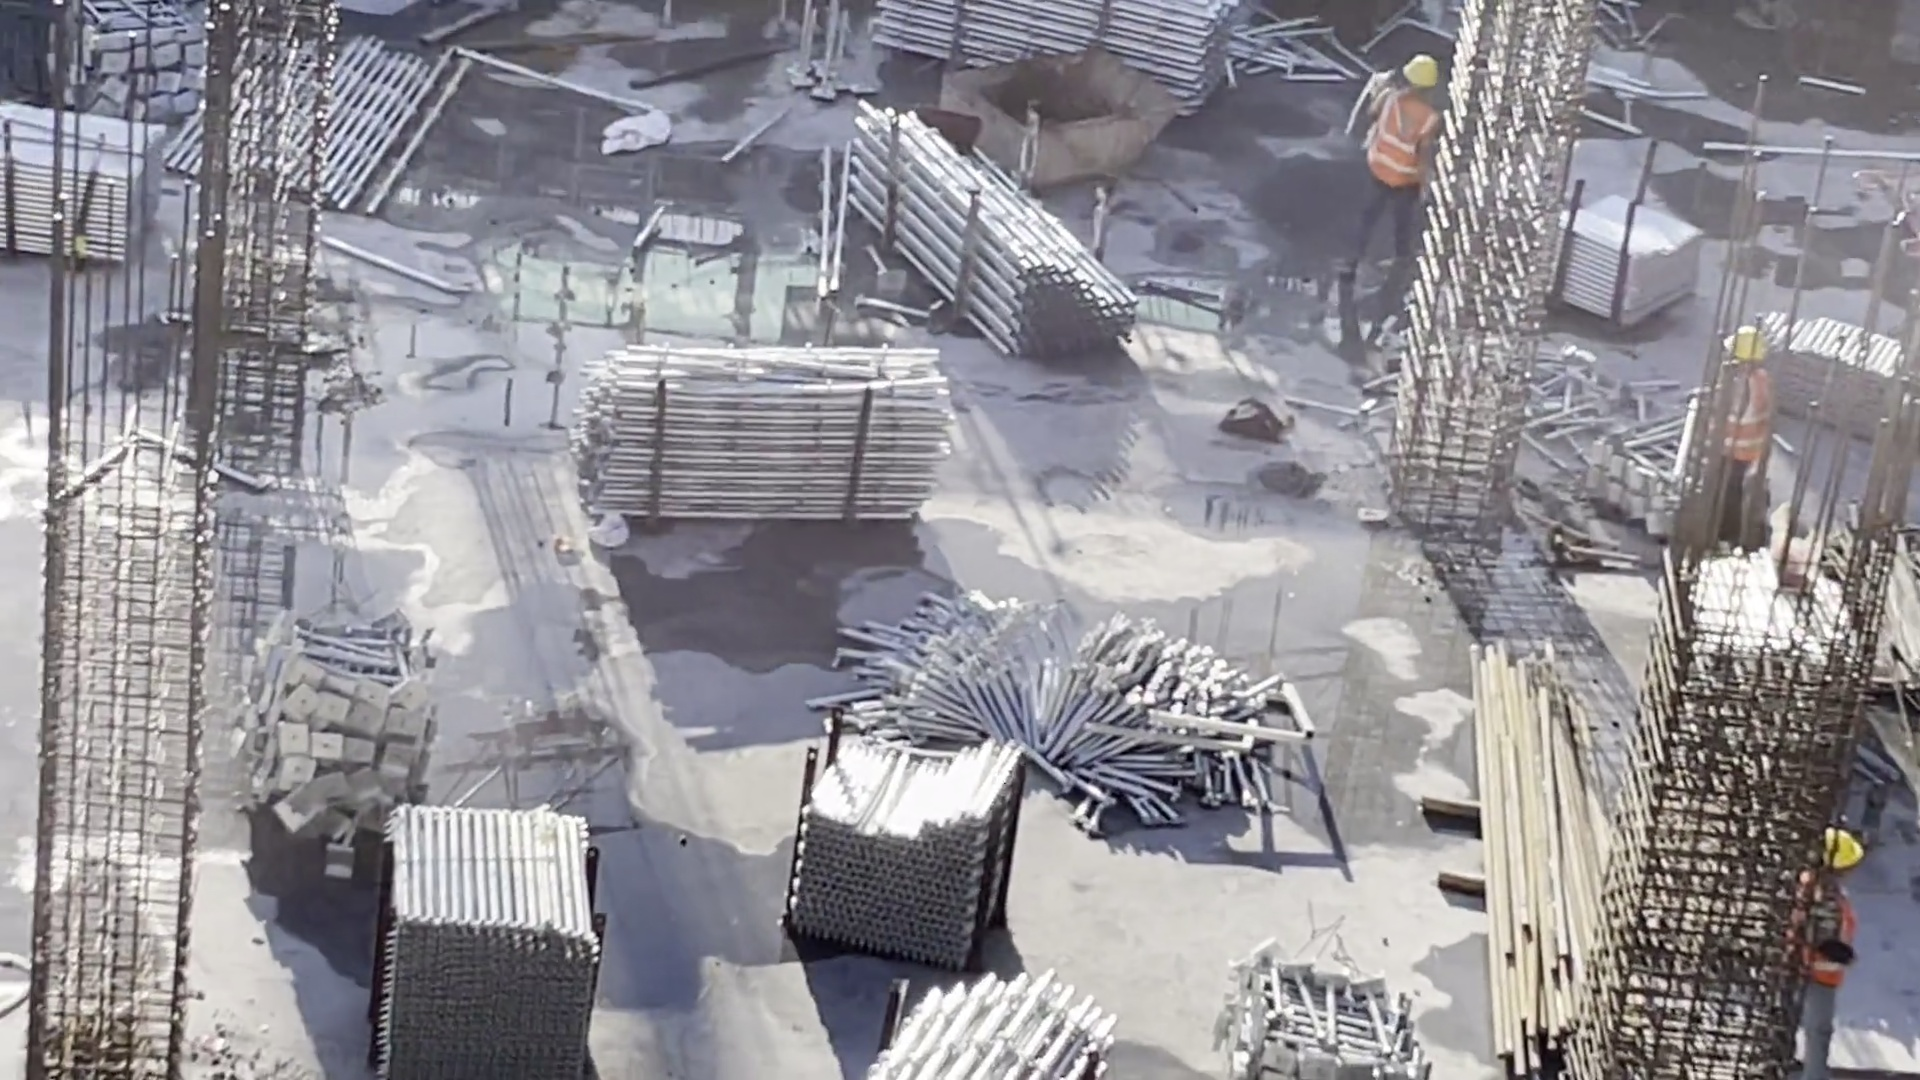helmet: (1821, 827, 1880, 879), (1726, 324, 1774, 365), (1399, 58, 1448, 85)
hopper: (940, 42, 1181, 197)
person: (1788, 822, 1880, 1074), (1354, 46, 1447, 276), (1699, 320, 1780, 543)
scaffold: (864, 579, 1269, 812), (363, 798, 634, 1068), (562, 341, 948, 528), (837, 112, 1101, 356), (790, 716, 1030, 946), (223, 614, 420, 845), (919, 1, 1249, 132), (868, 981, 1140, 1080), (1, 110, 166, 266), (1233, 945, 1412, 1080), (65, 1, 211, 133), (1556, 190, 1695, 323), (1782, 304, 1920, 430)
vest: (1360, 86, 1437, 192), (1793, 873, 1853, 970), (1727, 363, 1777, 465)
